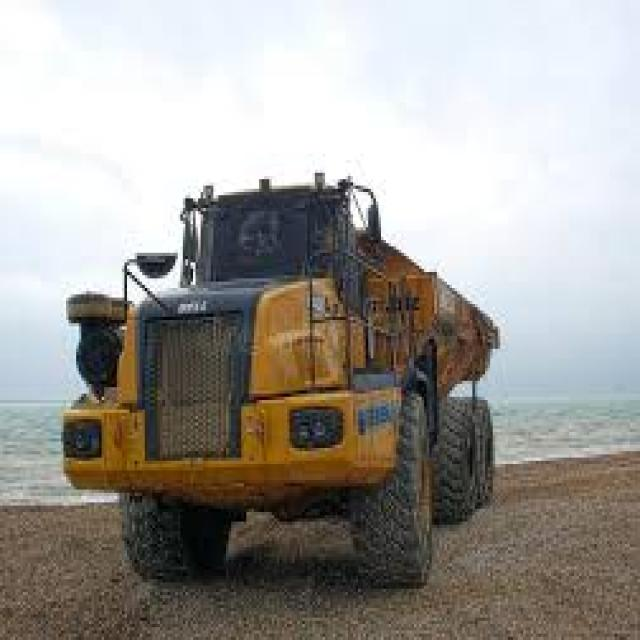dump_truck: (51, 157, 520, 589)
